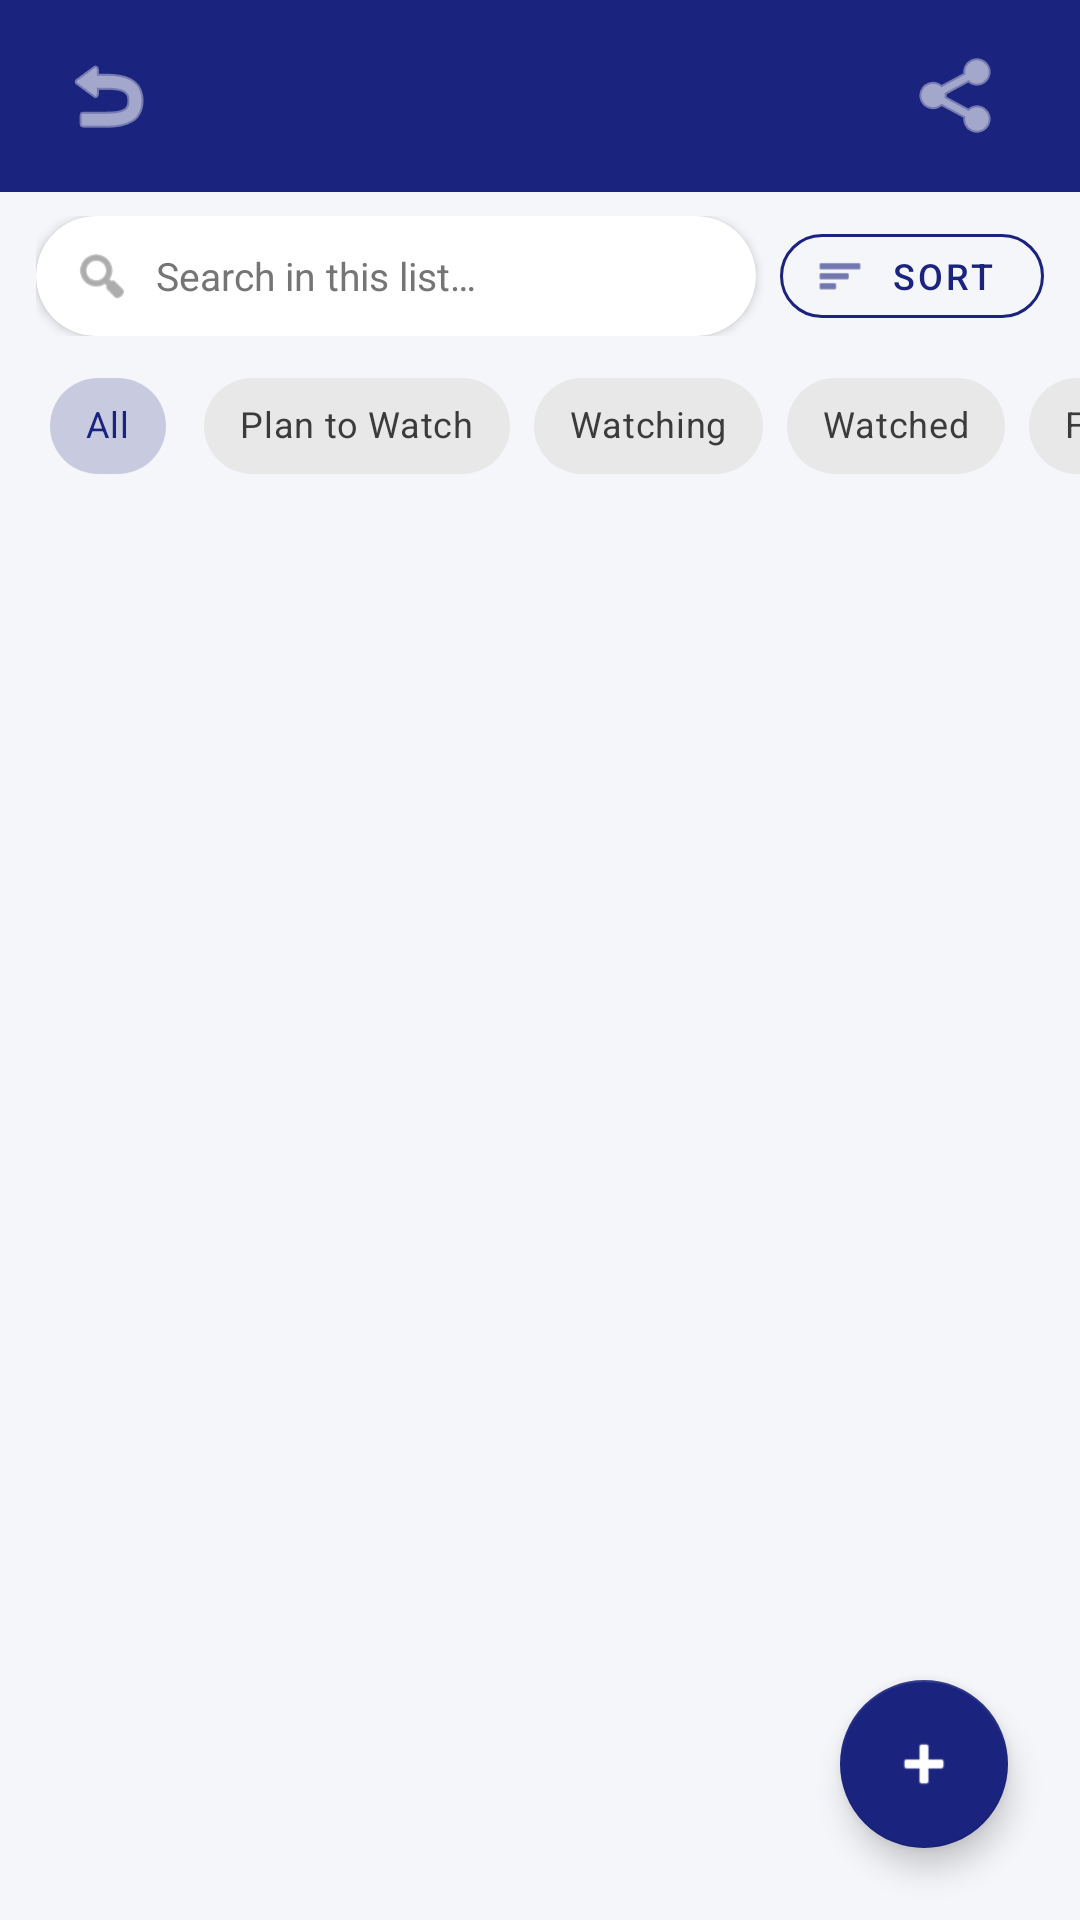

Locate icon controls on the screen. Image size 1080px×1920px, boxes as [x1, y1, x2, y2].
Add movie: [840, 1680, 1008, 1848]
Back: [75, 65, 144, 128]
Share List: [919, 58, 991, 133]
